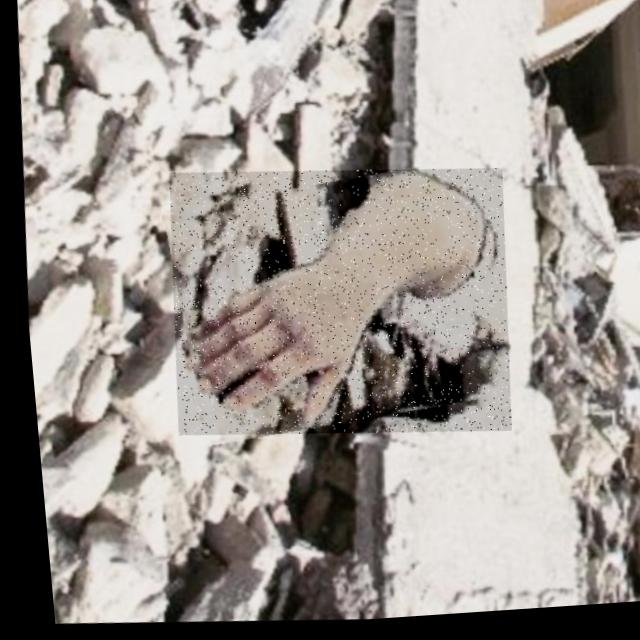Person in Rubble: (151, 158, 516, 455)
